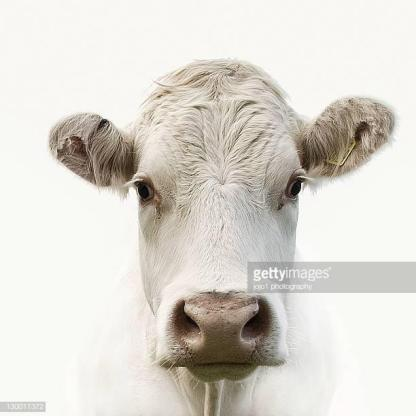cow: (49, 62, 395, 416)
